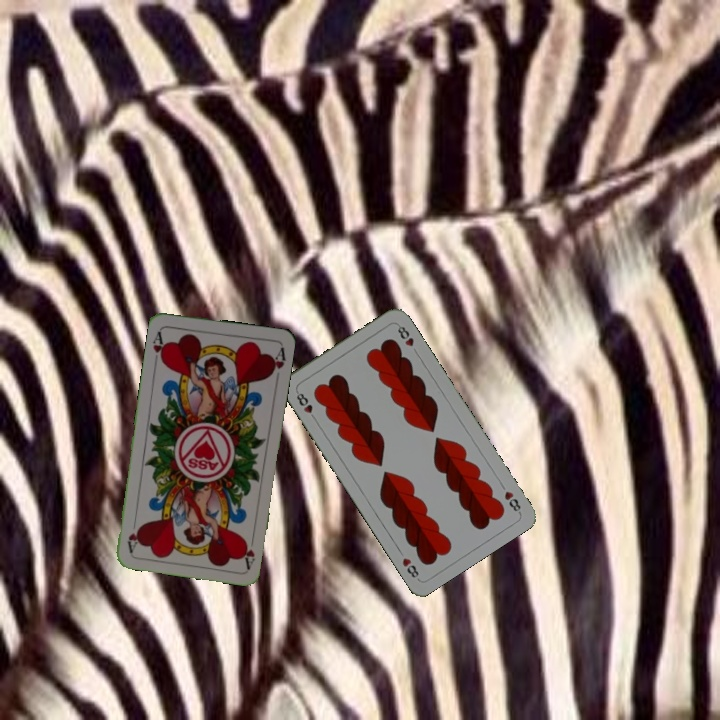H8: (292, 387, 319, 423), (500, 487, 523, 516)
HA: (149, 326, 168, 366), (239, 530, 257, 570)
